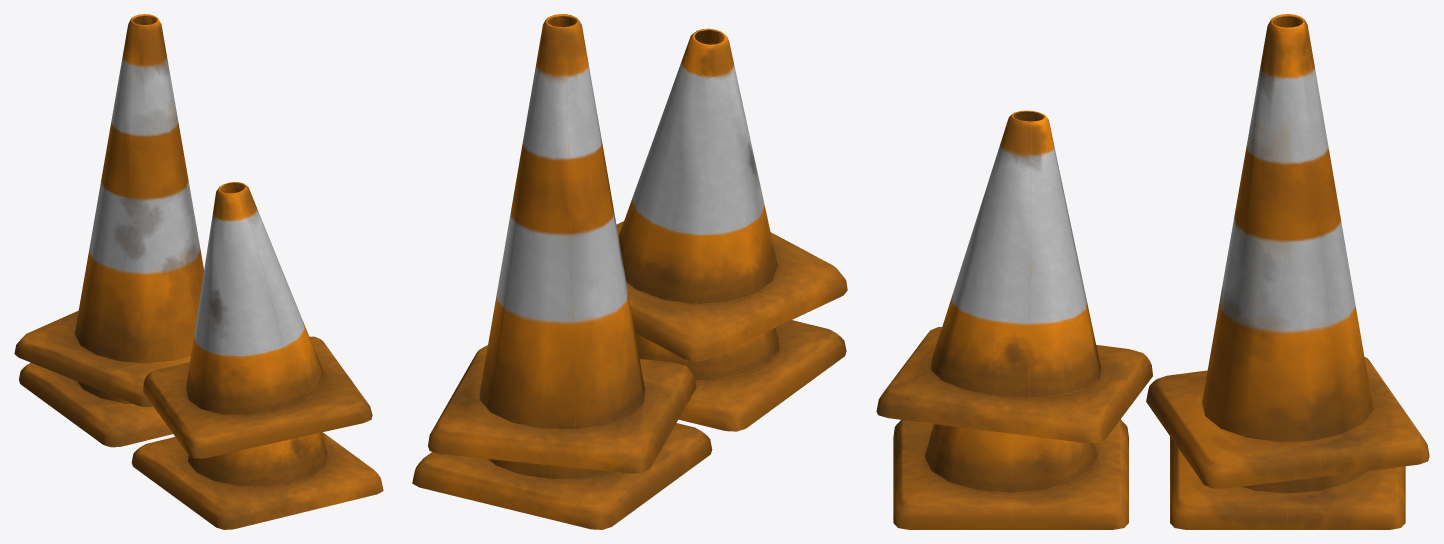
File: o3_coni_impilati.glb
The picture shows the model from 3 angles, left to right: view 1: azimuth 30°, elevation 25°; view 2: azimuth 150°, elevation 25°; view 3: azimuth 270°, elevation 25°; orthographic projection. The views are drawn at different scales.
Parts seen in each view (by area): view 1: sb_modello; view 2: sb_modello; view 3: sb_modello.
Boxes of the visible parts, x1,y1,x2,y2 form: sb_modello: (14, 14, 383, 529); sb_modello: (412, 14, 847, 529); sb_modello: (876, 14, 1429, 529).
Bounding box in the file's own units: 0.3132 × 0.56 × 0.6111.
Materials: 2 (2 with a texture image).
